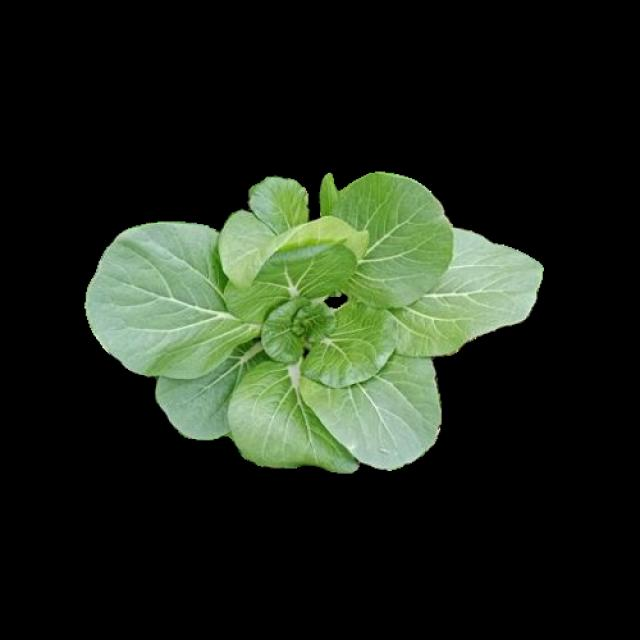healthy: (84, 172, 536, 467)
mature: (86, 174, 539, 470)
